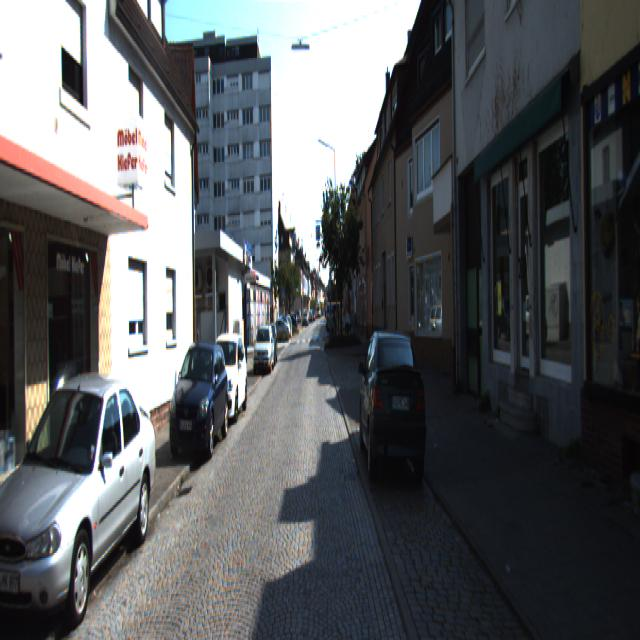Car: (0, 368, 157, 639), (357, 323, 430, 492), (166, 335, 230, 467), (202, 329, 248, 425), (251, 322, 274, 373)
